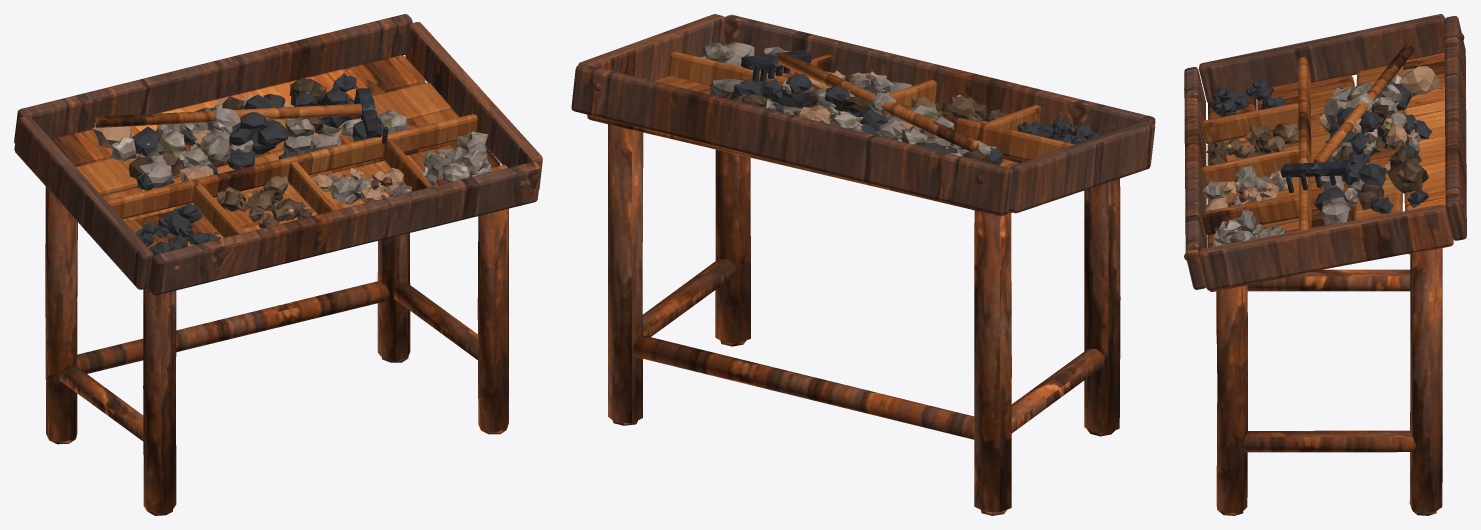
File: lw_ore_sorting_table.glb
The picture shows the model from 3 angles, left to right: view 1: azimuth 30°, elevation 25°; view 2: azimuth 150°, elevation 25°; view 3: azimuth 270°, elevation 25°; orthographic projection. The views are drawn at different scales.
Visible parts, largest first — view 1: model; view 2: model; view 3: model.
Boxes of the visible parts, x1,y1,x2,y2 form: model: (14, 14, 542, 515); model: (571, 14, 1155, 515); model: (1184, 14, 1466, 515).
Bounding box in the file's own units: 1.28 × 0.99 × 0.7877.
Materials: 20 (17 with a texture image).
